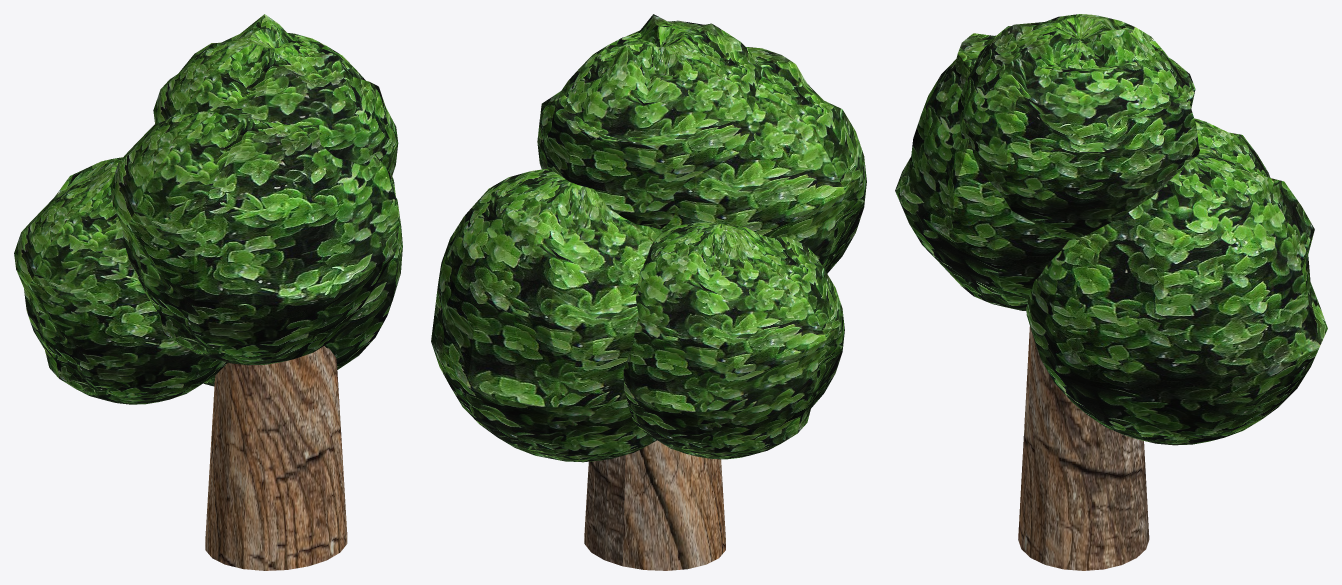
File: кустик.glb
The picture shows the model from 3 angles, left to right: view 1: azimuth 30°, elevation 25°; view 2: azimuth 150°, elevation 25°; view 3: azimuth 270°, elevation 25°; orthographic projection.
Visible parts, largest first — view 1: Sphere.002, Cylinder, Sphere, Sphere.003, Sphere.001; view 2: Sphere.001, Sphere, Sphere.003, Sphere.002, Cylinder; view 3: Sphere.001, Sphere.003, Cylinder, Sphere.002, Sphere.
Boxes of the visible parts, x1,y1,x2,y2 form: Sphere.002: (110,111,398,365); Cylinder: (205,346,347,570); Sphere: (14,157,227,404); Sphere.003: (153,14,398,175); Sphere.001: (203,198,402,386); Sphere.001: (431,169,661,462); Sphere: (623,222,844,459); Sphere.003: (537,14,768,229); Sphere.002: (660,47,866,273); Cylinder: (584,440,725,570); Sphere.001: (1026,144,1327,445); Sphere.003: (958,14,1199,240); Cylinder: (1018,326,1149,570); Sphere.002: (895,33,1068,310); Sphere: (1194,118,1270,177).
Bounding box in the file's own units: 3.39 × 4.54 × 3.46.
5 materials, 5 textured.
